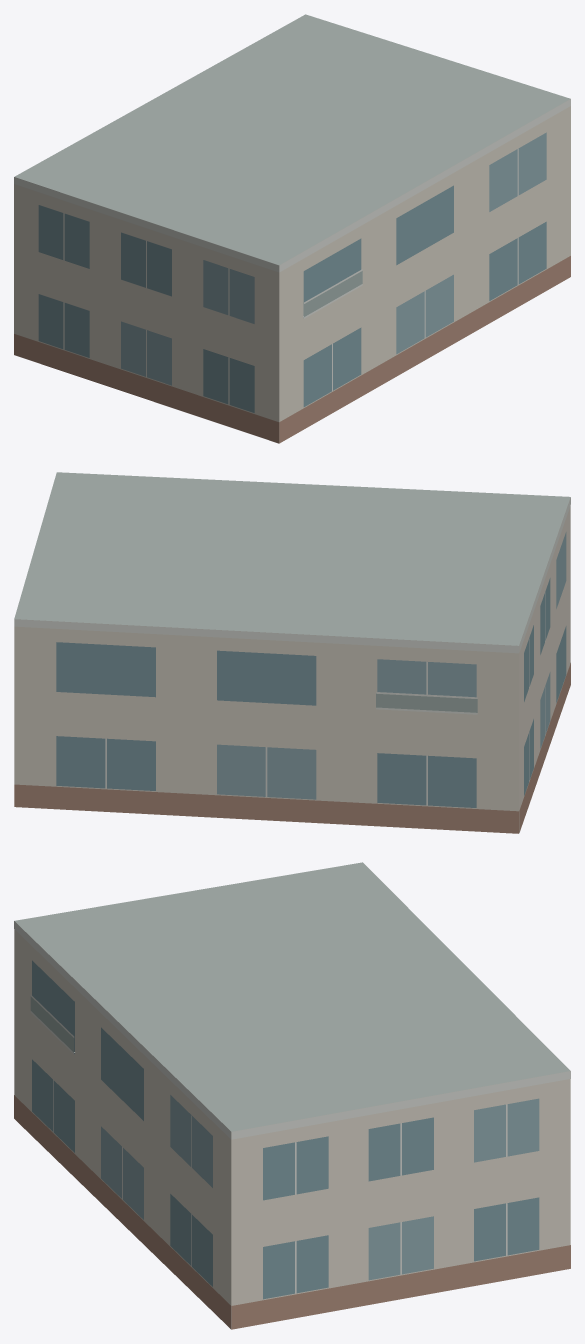
Rendered from survey-upis-32774326.glb.
3 renders of one model, top to bottom at view 1: azimuth 30°, elevation 25°; view 2: azimuth 150°, elevation 25°; view 3: azimuth 270°, elevation 25°, orthographic. The views are drawn at different scales.
Visible parts, largest first — view 1: survey-upis-32774326.tmp; view 2: survey-upis-32774326.tmp; view 3: survey-upis-32774326.tmp.
Part boxes in pixels (bbox=[...]): survey-upis-32774326.tmp: bbox=[14, 14, 570, 443]; survey-upis-32774326.tmp: bbox=[14, 472, 570, 833]; survey-upis-32774326.tmp: bbox=[14, 862, 570, 1329].
Size of the model in its own units: 17.84 by 6.1 by 15.57.
